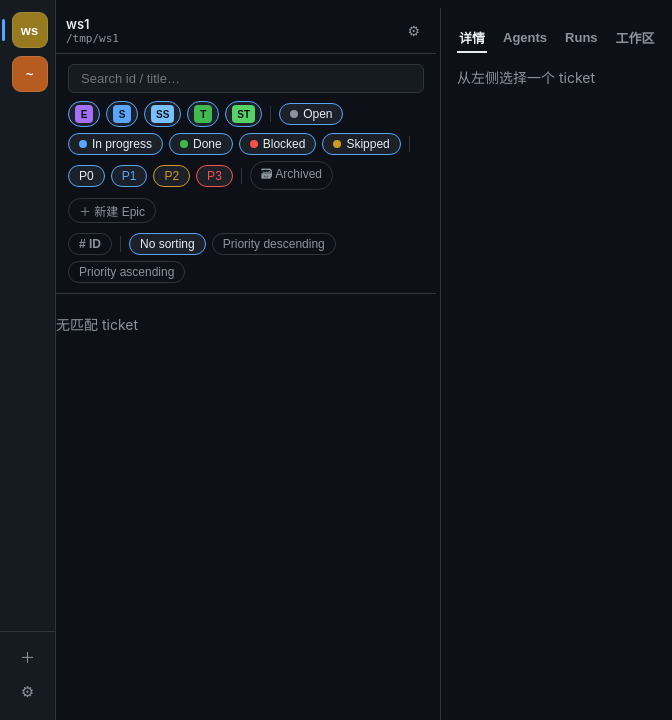
U2 右键菜单（R4） › AE1（菜单部分）：普通工作区有「在此工作区打开终端」；全局 home 没有
This screenshot has width=672, height=720.
Right-click the button with class "rail-icon" showing "ws" at coordinates (30, 30), box top-left (12, 12), bottom-right (48, 48)
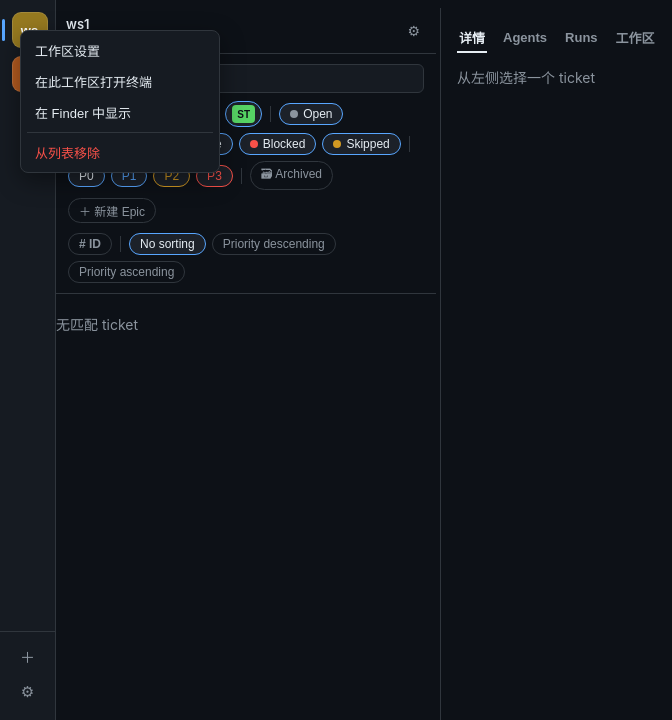
Check: the menu with class "ws-context-menu" is shown
Check: the menu item "在此工作区打开终端" is shown, box top-left (25, 66), bottom-right (215, 97)
Check: the menu item "工作区设置" is shown, box top-left (25, 35), bottom-right (215, 66)
Click the element with class "context-overlay" at coordinates (120, 102), box top-left (20, 30), bottom-right (220, 173)
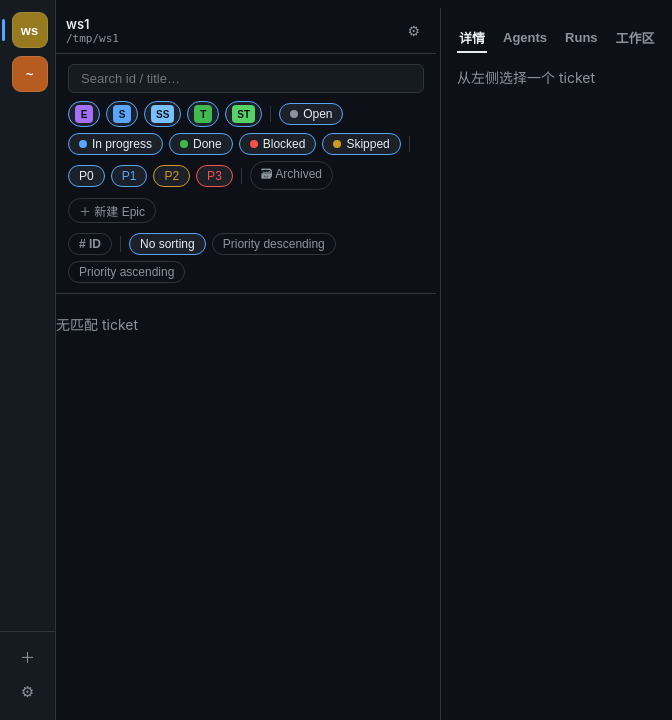
Right-click the button with class "rail-icon" showing "~" at coordinates (30, 74), box top-left (12, 56), bottom-right (48, 92)
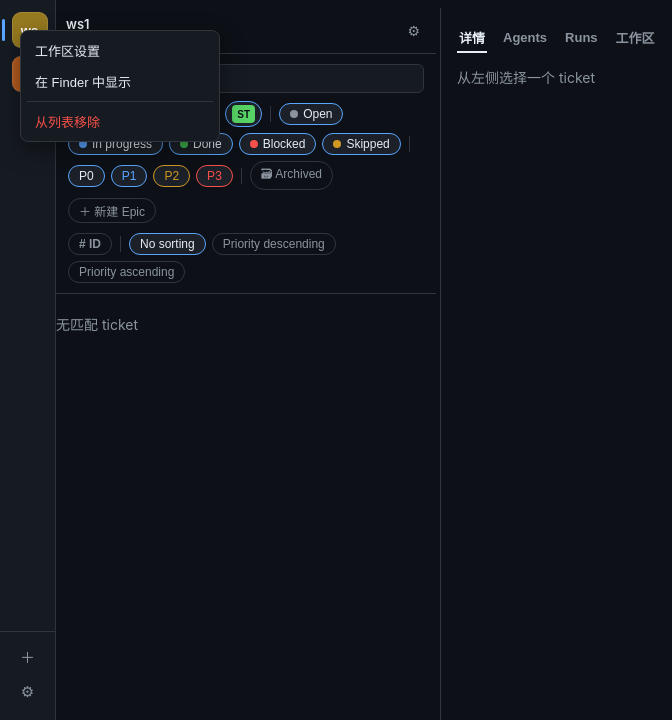
Check: the menu item "在此工作区打开终端" is not shown
Check: the menu with class "ws-context-menu" is shown, box top-left (20, 30), bottom-right (220, 142)
